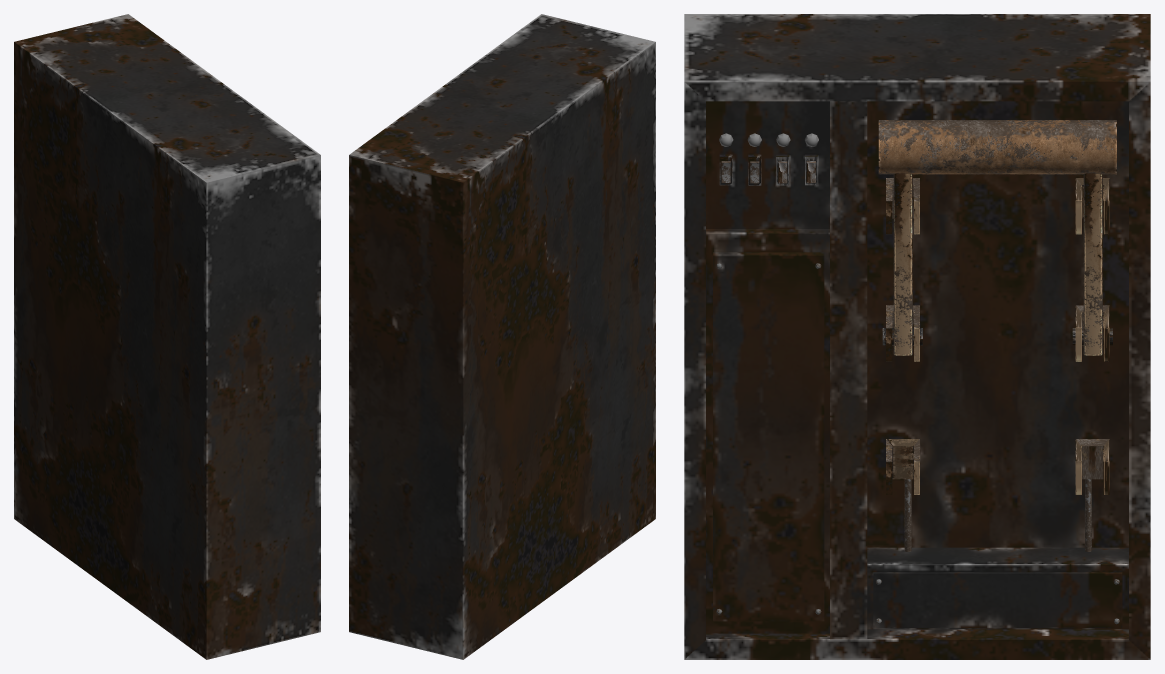
Rendered from leverbox.fbx.
3 views of the same model, side by side, from view 1: azimuth 30°, elevation 25°; view 2: azimuth 150°, elevation 25°; view 3: azimuth 270°, elevation 25° (orthographic). The views are drawn at different scales.
Visible parts, largest first — view 1: Cube.077; view 2: Cube.077; view 3: Cube.077, Cube.083.
Part boxes in pixels (box(x1,y1,x2,y2)): Cube.077: box(14, 14, 320, 659); Cube.077: box(349, 14, 655, 659); Cube.077: box(684, 14, 1150, 659); Cube.083: box(878, 120, 1116, 355).
Bounding box in the file's own units: 22.22 × 88.71 × 64.86.
